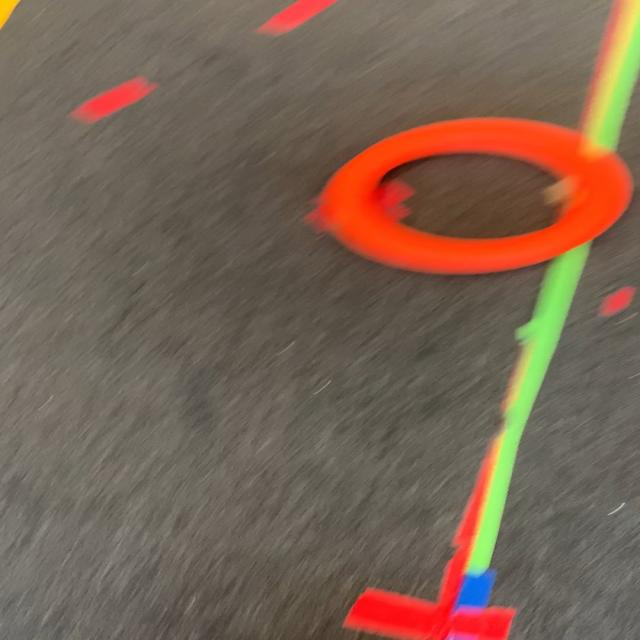notes: (317, 115, 629, 277)
